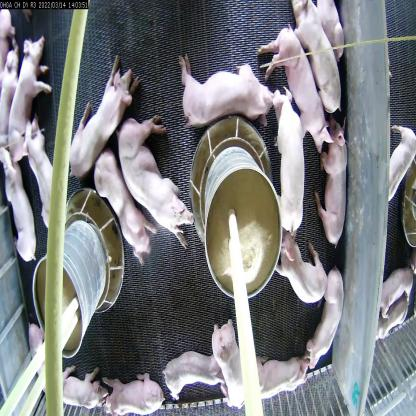Pig: (115, 110, 202, 248), (253, 22, 331, 166), (67, 51, 135, 183), (89, 145, 158, 272), (172, 49, 277, 128), (285, 0, 341, 119), (267, 82, 307, 247), (6, 30, 52, 171), (18, 112, 63, 235), (314, 115, 352, 255), (0, 145, 40, 272), (207, 312, 250, 416), (274, 230, 328, 309), (306, 266, 344, 378), (247, 344, 312, 406), (160, 344, 218, 404), (52, 359, 112, 415), (97, 369, 165, 415), (386, 110, 415, 216), (0, 38, 24, 166), (25, 326, 63, 398), (313, 0, 351, 56), (380, 260, 416, 316), (375, 298, 414, 346)
